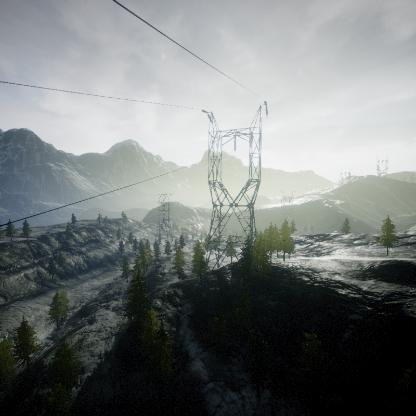tower: (198, 97, 272, 273)
